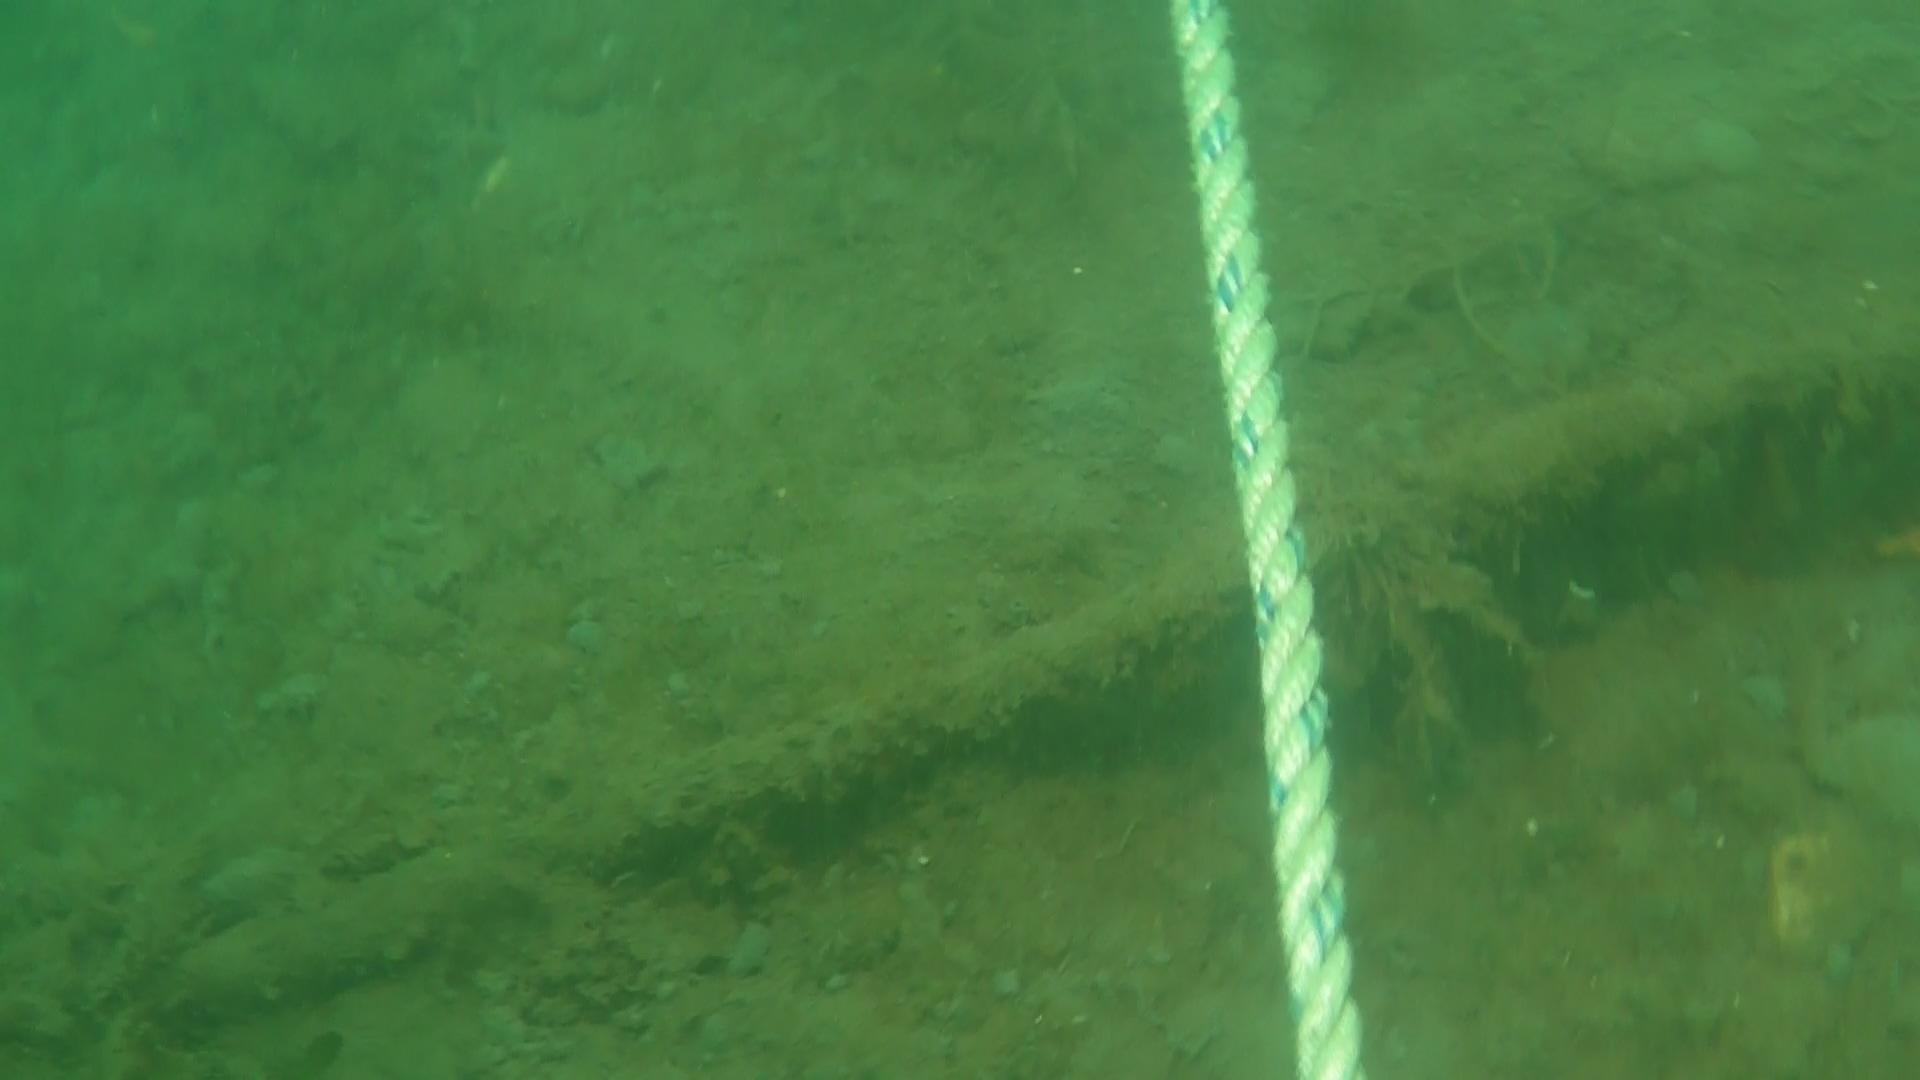rope: (1168, 0, 1364, 1080)
